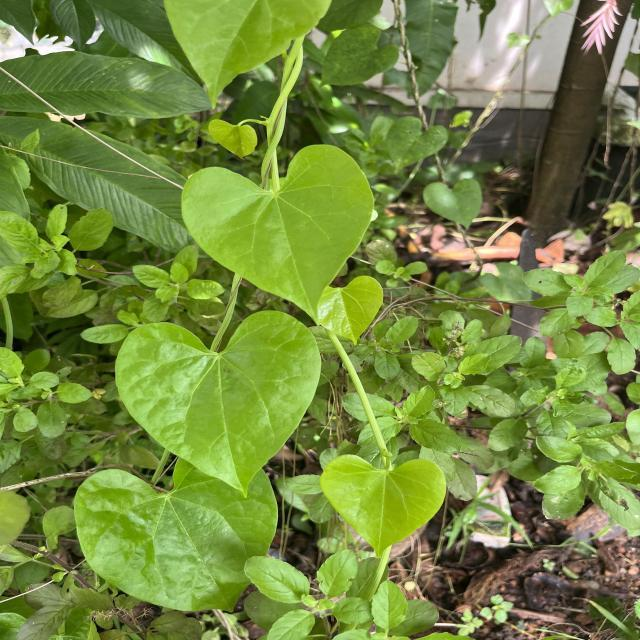Tinospora cordifolia: (106, 304, 324, 503), (176, 138, 378, 330), (67, 446, 281, 617), (316, 452, 451, 560)
